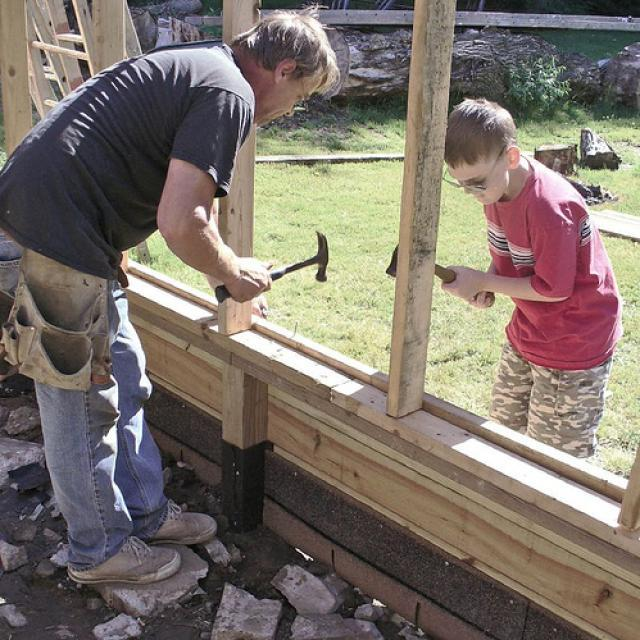hammer: (214, 225, 338, 310), (382, 232, 490, 314)
